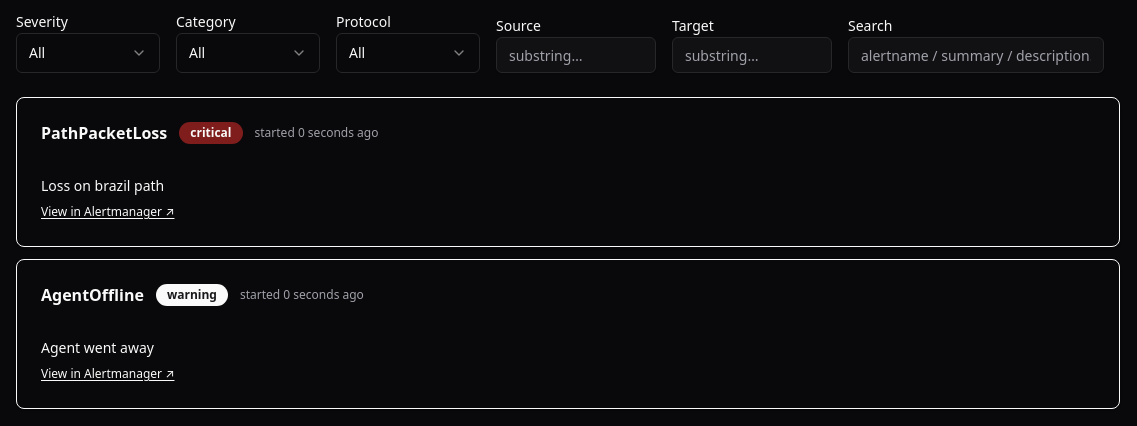
Test: Alerts page › filters by free-text search across alertname/summary
The width and height of the screenshot is (1137, 426).
Expected: the heading "PathPacketLoss" is shown, [41, 125, 167, 141]
In the field labelled "Search": (976,55) [848, 37, 1104, 73], type "brazil"
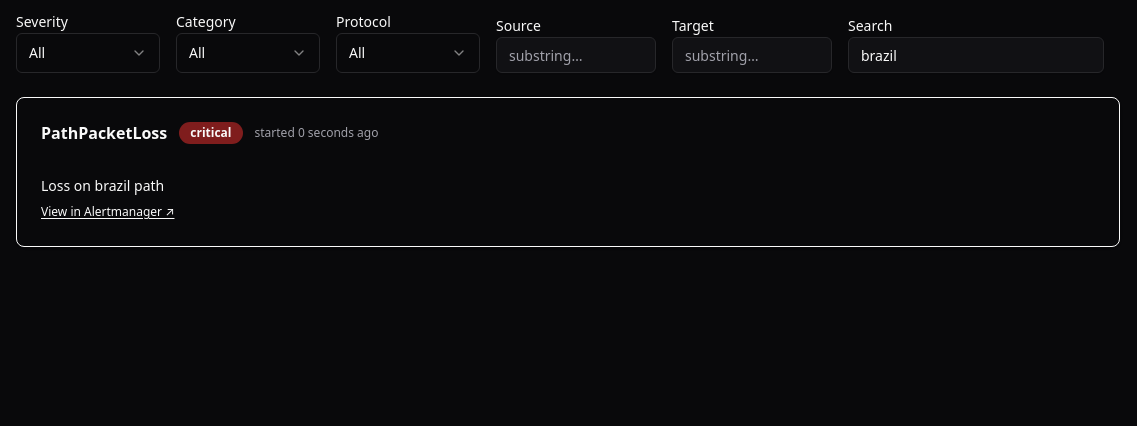
Expected: the heading "PathPacketLoss" is shown, [41, 125, 167, 141]
Expected: the heading "AgentOffline" is gone
